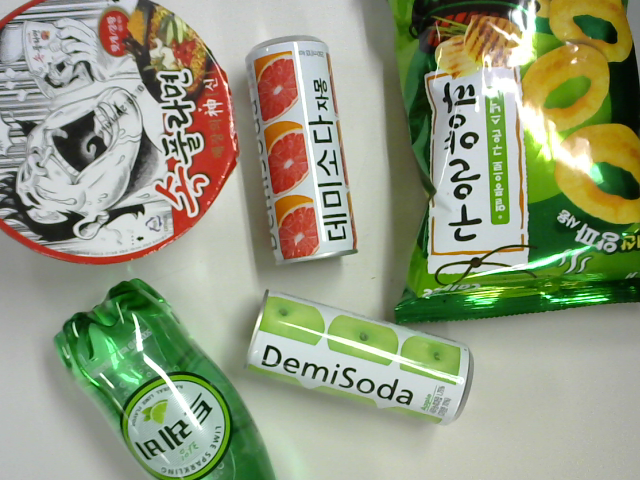Demisoda_Apple_Can_250ml: (232, 287, 484, 422)
Demisoda_Grapefruit_Can_250ml: (245, 33, 347, 262)
Grilled_Onions: (405, 5, 640, 328)
Hejangpul: (1, 1, 236, 265)
Treviraim_500ml: (46, 276, 285, 480)
